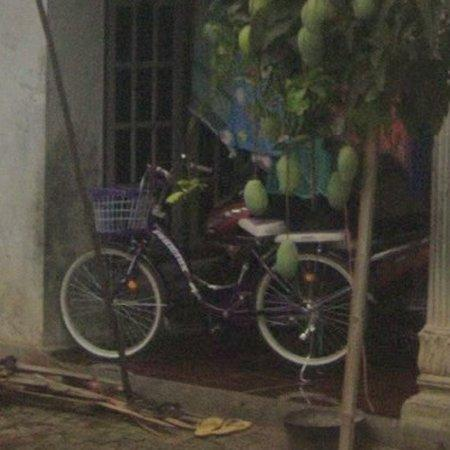bicycles: (60, 167, 352, 367)
